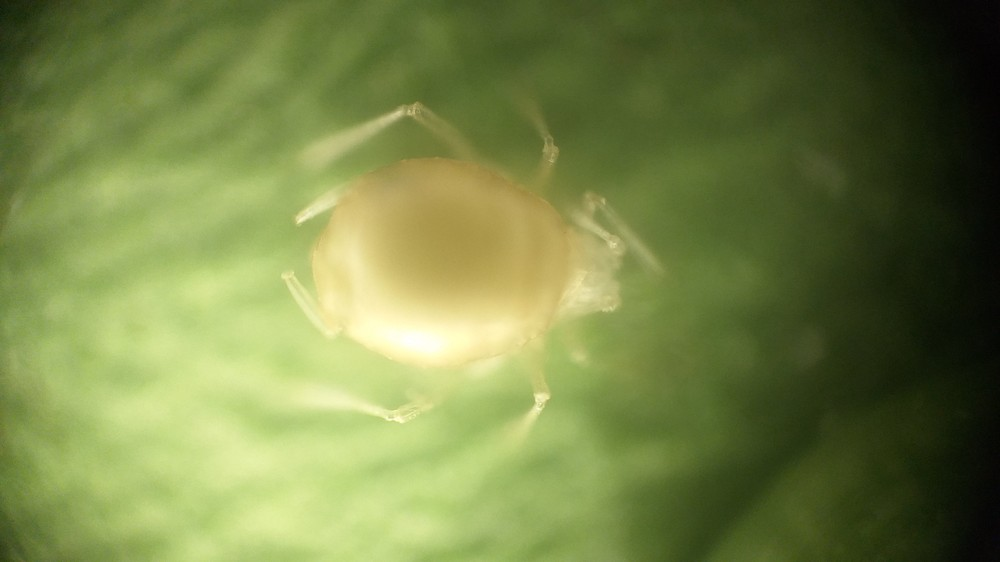Pulgon: (262, 71, 677, 476)
